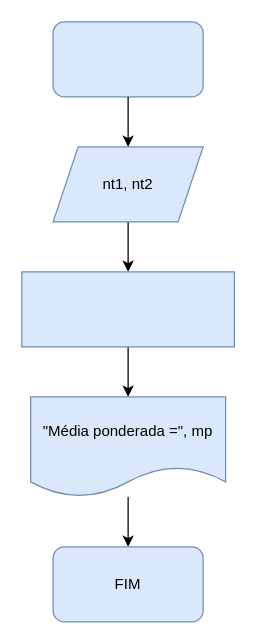
The diagram is 256 pixels wide and 644 high, and some of its shapes have lost their labels. Each missing label, with the centre of its shape:
INÍCIO: (127,59)
mp = (nt1 * + nt2 * 3) /5: (127,309)
